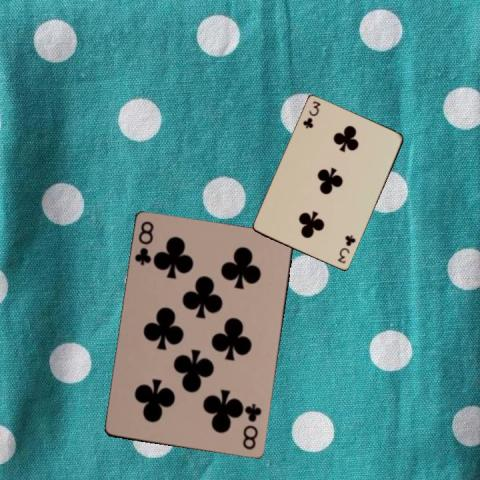3c: (334, 232, 357, 265), (300, 98, 322, 130)
8c: (239, 401, 264, 451), (132, 218, 156, 267)
